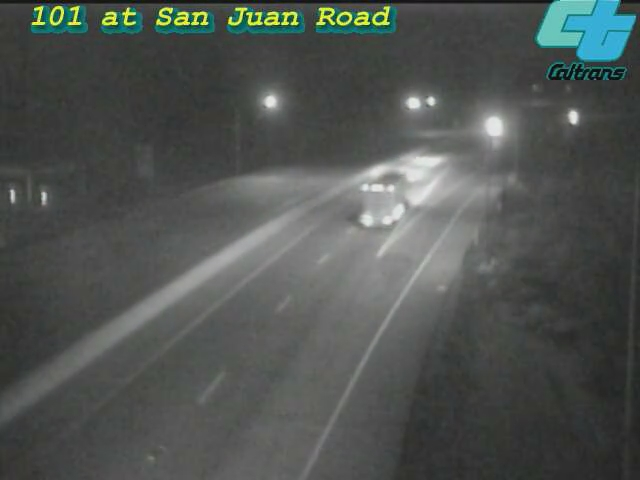vehicle: (360, 131, 440, 211), (344, 165, 424, 245), (470, 103, 520, 153), (548, 92, 598, 142), (399, 135, 449, 185)
